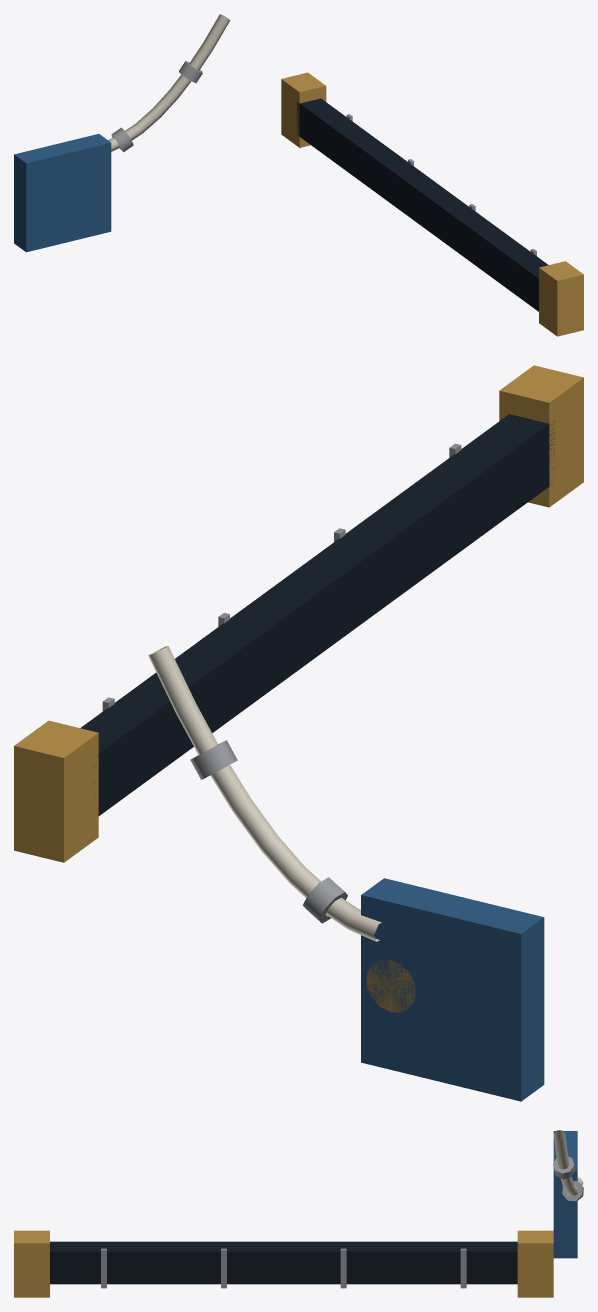
The model's file is pellet_level.obj.
3 views of the same model, one above another, from view 1: azimuth 30°, elevation 25°; view 2: azimuth 150°, elevation 25°; view 3: azimuth 270°, elevation 25° (orthographic). The views are drawn at different scales.
Parts seen in each view (by area): view 1: pellet_level; view 2: pellet_level; view 3: pellet_level.
Boxes of the visible parts, x1,y1,x2,y2 form: pellet_level: (14, 14, 583, 336); pellet_level: (14, 365, 583, 1101); pellet_level: (14, 1130, 583, 1297).
Bounding box in the file's own units: 0.53 × 0.3347 × 0.9507.
